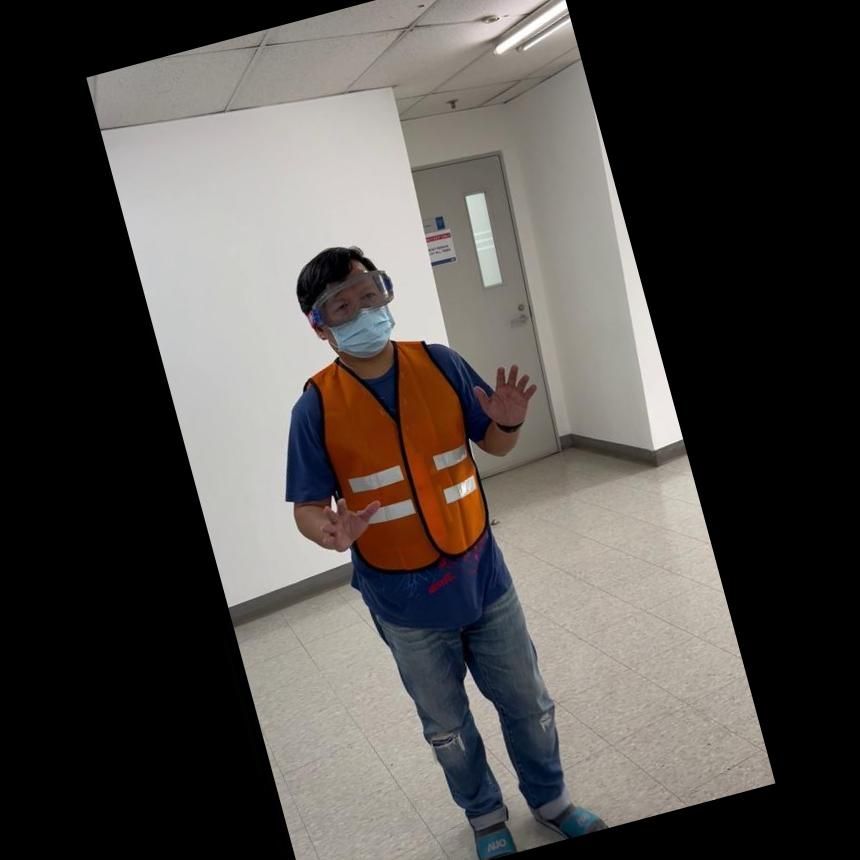No-gloves: (307, 477, 390, 556), (466, 351, 543, 434)
